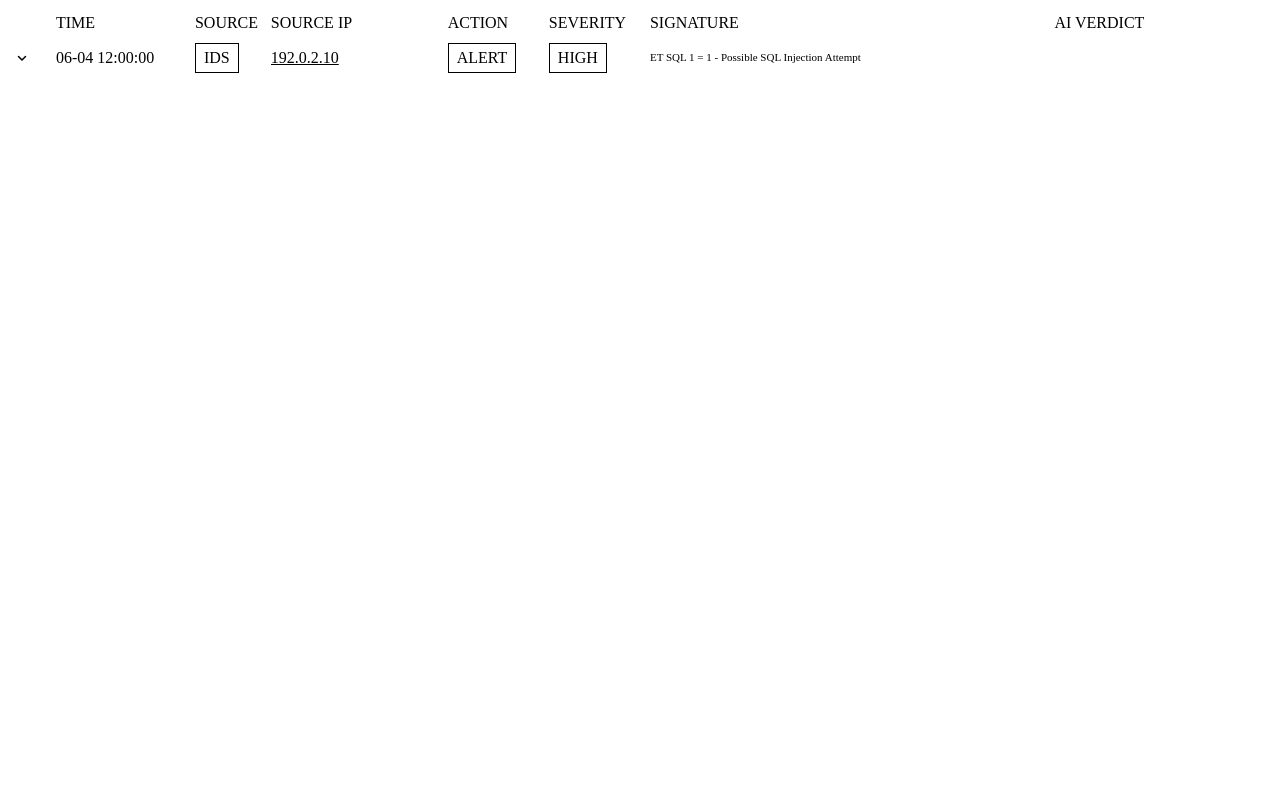
Scenario: MF-4 EARS #2 — optional columns render when DTO provides them › payload renders in detail panel (HTTP section) when present — not inline column (ADR-0063 D1)
This screenshot has width=1280, height=800.
Note: Expand to verify it appears in the detail panel
Click the button with test id "log-row-chevron".
click(22, 58)  # box [14, 50, 30, 66]
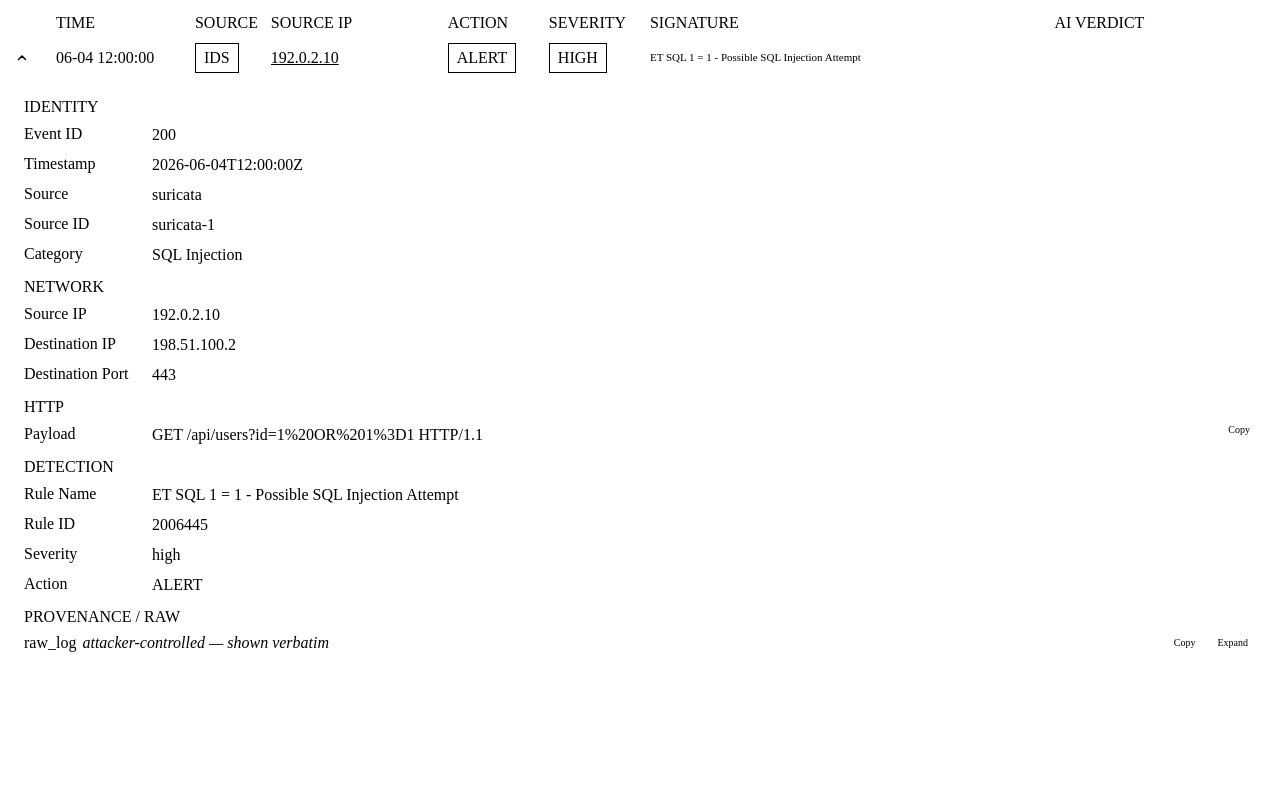
Result: the element with test id "detail-section-http" is shown at [24, 398, 1256, 450]
Result: the element with test id "log-detail-panel" shows "GET /api/users?id=1%20OR%201%3D1 HTTP/1.1" at [152, 426, 483, 443]
